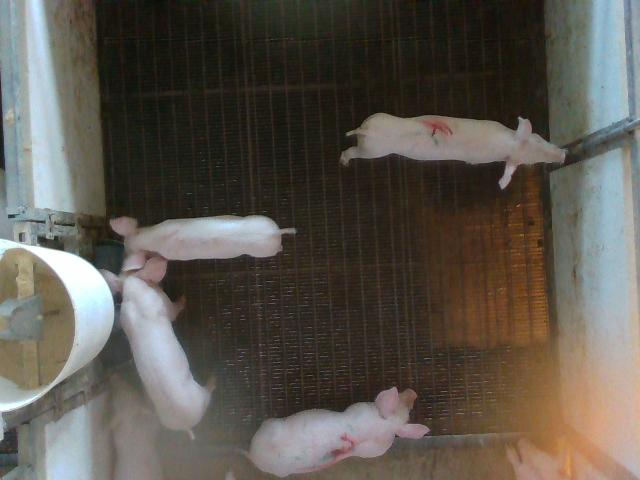pig-3: (249, 386, 429, 476)
pig-4: (340, 112, 565, 188)
